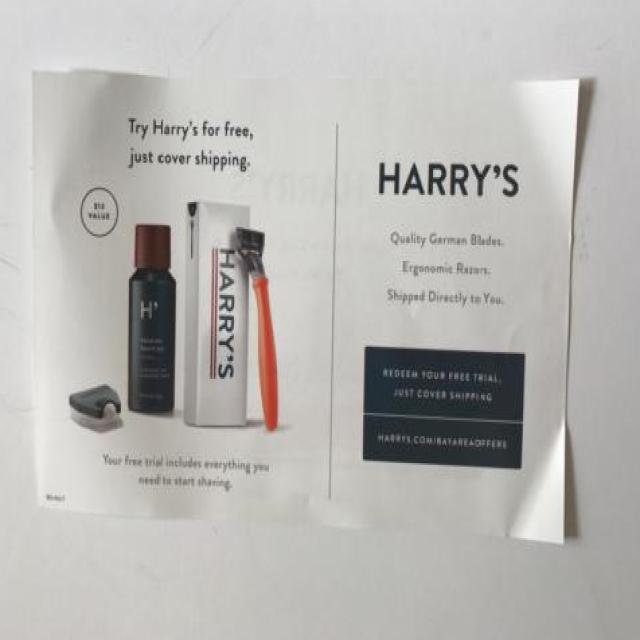kertas: (26, 66, 590, 546)
